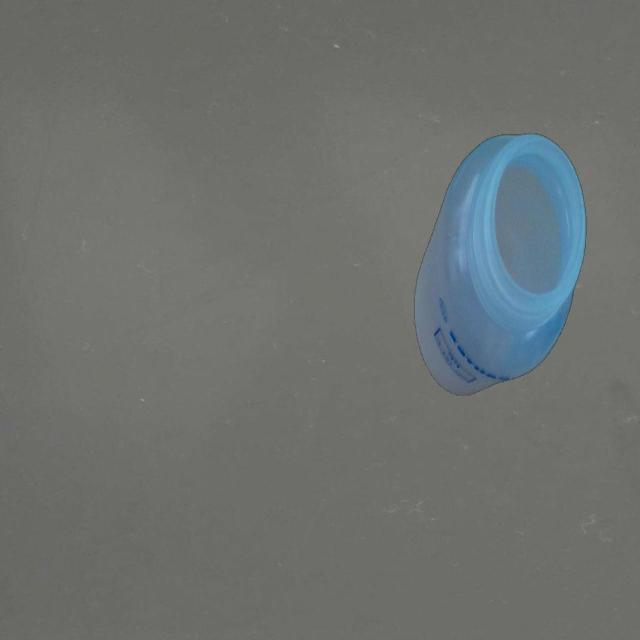bottle: (411, 124, 588, 403)
